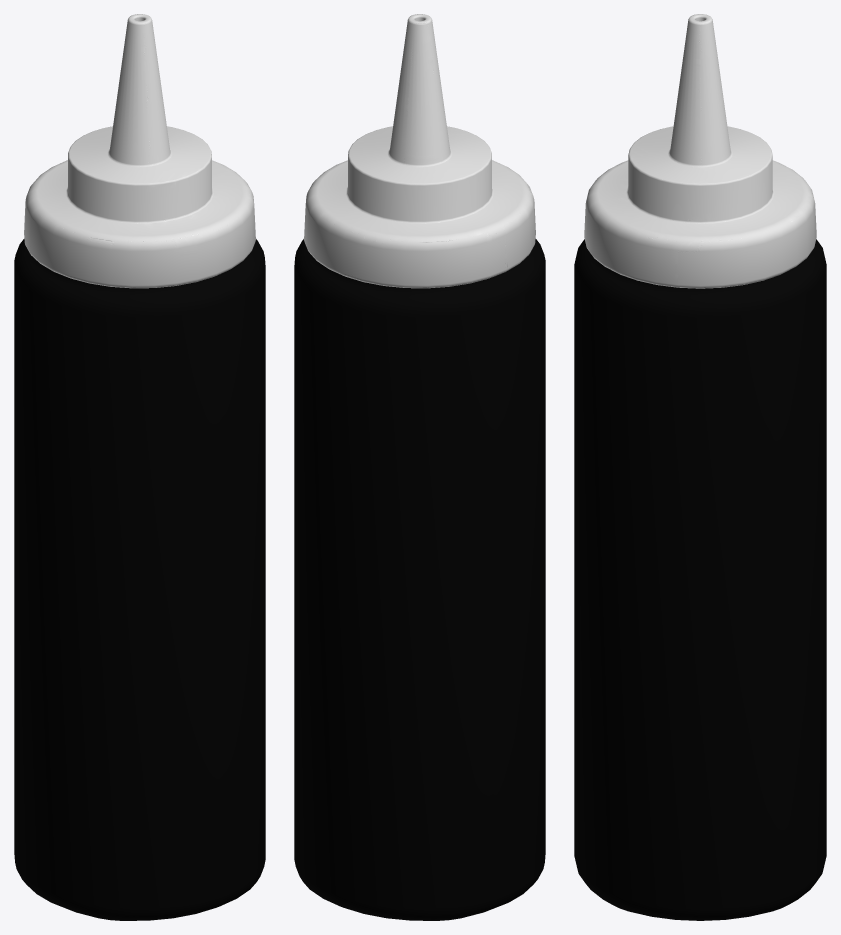
File: squeeze_bottle.glb
3 views of the same model, side by side, from view 1: azimuth 30°, elevation 25°; view 2: azimuth 150°, elevation 25°; view 3: azimuth 270°, elevation 25° (orthographic).
Parts seen in each view (by area): view 1: Bottle, Cap; view 2: Bottle, Cap; view 3: Bottle, Cap.
Part boxes in pixels (box(x1,y1,x2,y2)): Bottle: box(14, 239, 265, 920); Cap: box(24, 14, 255, 288); Bottle: box(294, 239, 545, 920); Cap: box(304, 14, 535, 288); Bottle: box(574, 239, 826, 920); Cap: box(584, 14, 816, 288).
Bounding box in the file's own units: 0.0527 × 0.1976 × 0.0527.
Materials: 2 (2 with a texture image).
